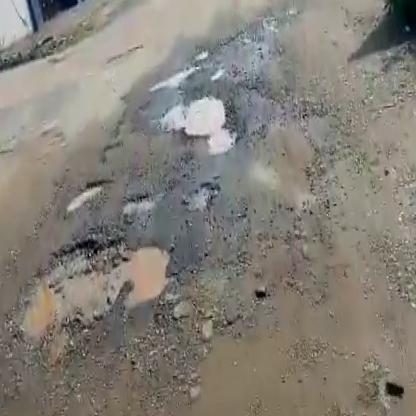pothole: (3, 225, 183, 342), (152, 92, 237, 163), (66, 173, 118, 211), (174, 180, 216, 213), (120, 191, 161, 218)
